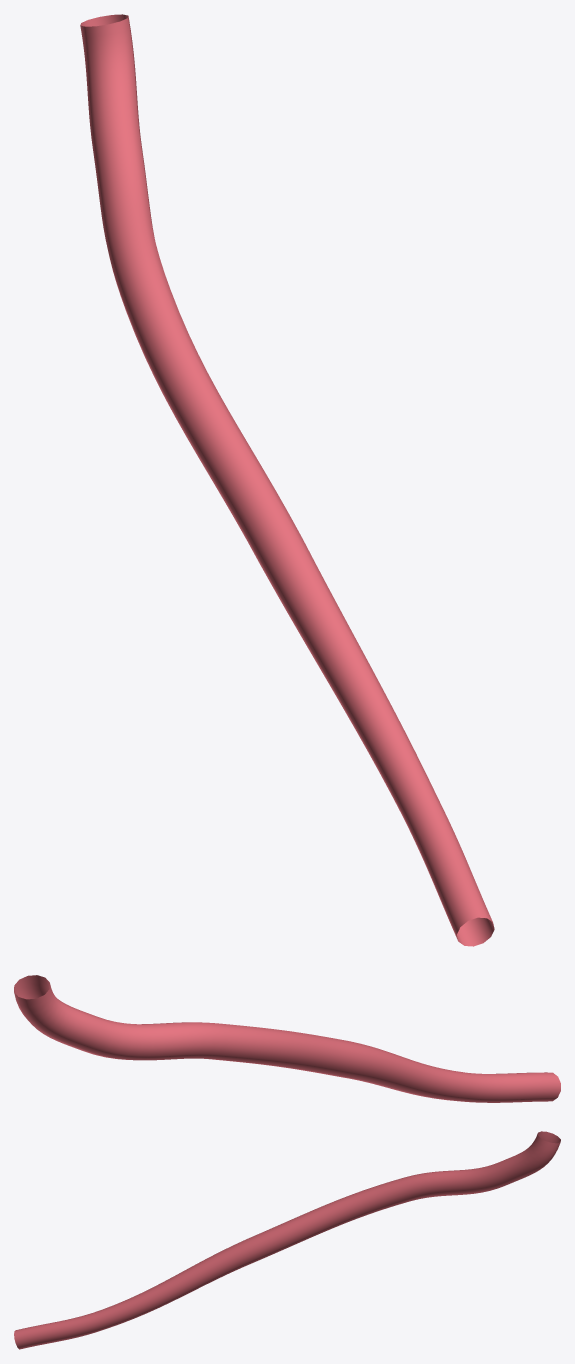
3 renders of one model, top to bottom at view 1: azimuth 30°, elevation 25°; view 2: azimuth 150°, elevation 25°; view 3: azimuth 270°, elevation 25°, orthographic. The views are drawn at different scales.
Parts seen in each view (by area): view 1: ZA_0ffe2cdf79d880f4; view 2: ZA_0ffe2cdf79d880f4; view 3: ZA_0ffe2cdf79d880f4.
Part boxes in pixels (<box>): ZA_0ffe2cdf79d880f4: <box>80,14,494,946</box>; ZA_0ffe2cdf79d880f4: <box>14,975,560,1102</box>; ZA_0ffe2cdf79d880f4: <box>14,1131,560,1349</box>.
Bounding box in the file's own units: 0.0138 × 0.0337 × 0.0658.
